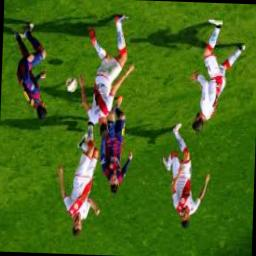football: (64, 76, 78, 93)
